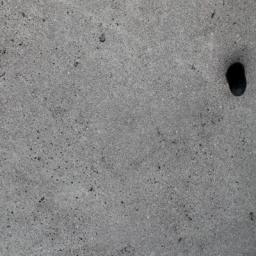FOD: (222, 60, 251, 100)
